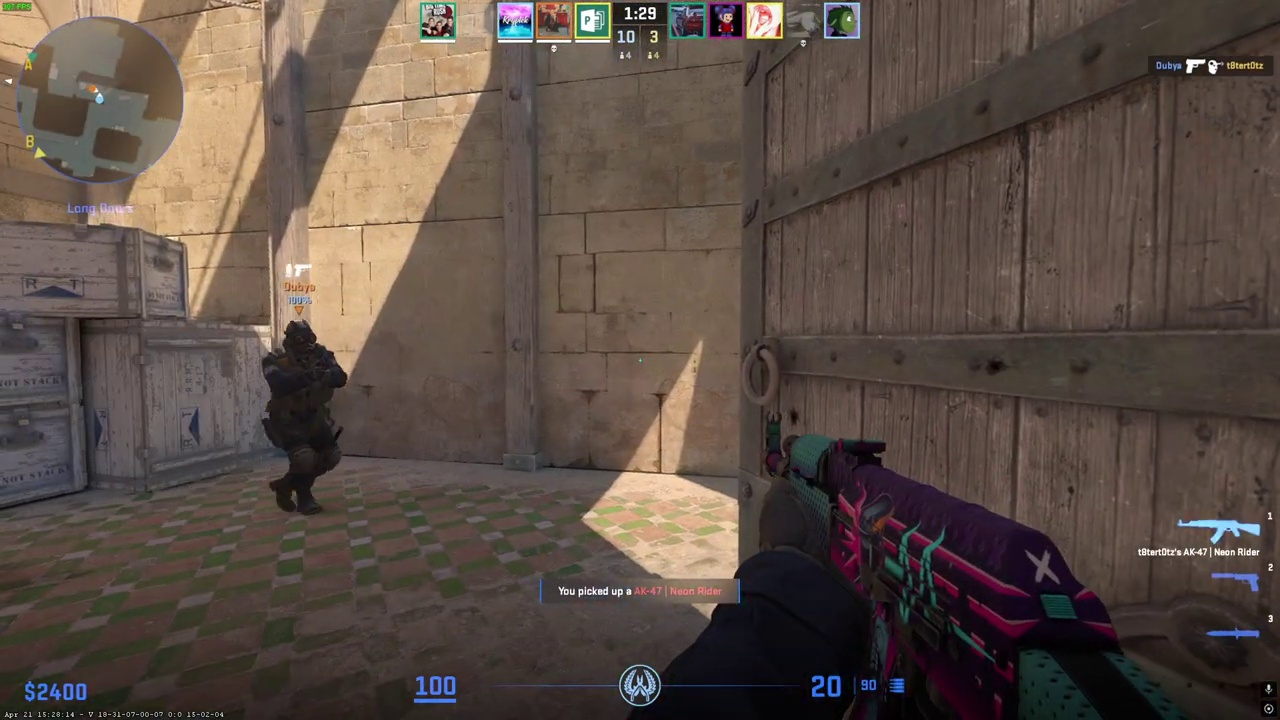CT: (262, 320, 344, 514)
